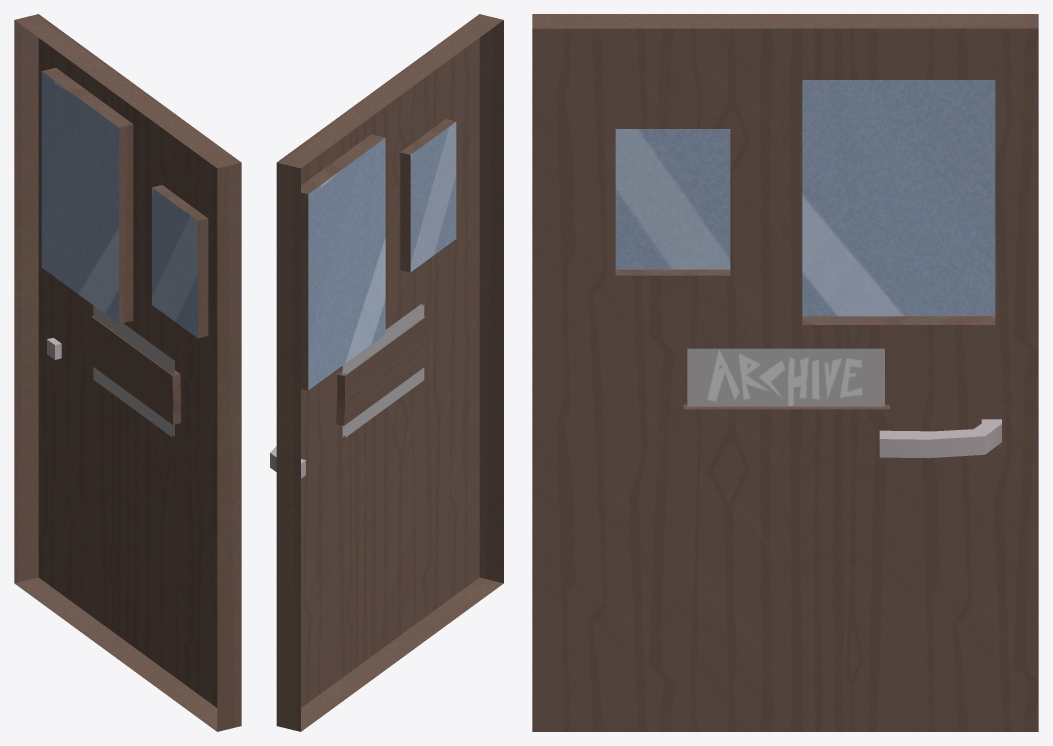
The model's file is DoorWooden.fbx.
3 views of the same model, side by side, from view 1: azimuth 30°, elevation 25°; view 2: azimuth 150°, elevation 25°; view 3: azimuth 270°, elevation 25° (orthographic). The views are drawn at different scales.
Parts seen in each view (by area): view 1: Door.002, Archive; view 2: Door.002, Archive; view 3: Door.002, Private, Handle.001.
Boxes of the visible parts, left/top/right/bottom form: Door.002: left=14, top=14, right=241, bottom=731; Archive: left=93, top=305, right=172, bottom=436; Door.002: left=276, top=14, right=503, bottom=731; Archive: left=345, top=304, right=424, bottom=437; Door.002: left=532, top=14, right=1038, bottom=731; Private: left=687, top=348, right=884, bottom=406; Handle.001: left=879, top=419, right=1001, bottom=458.
Size of the model in its own units: 26.64 by 247 by 162.
